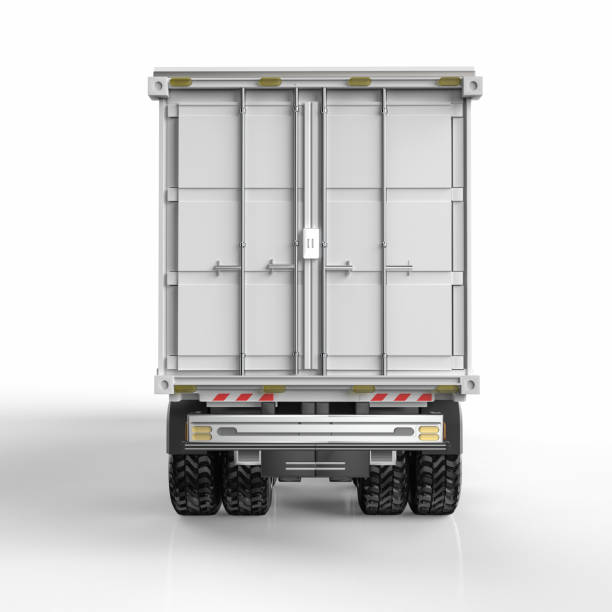Semi: (148, 65, 483, 516)
